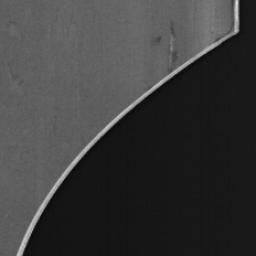Crescent gap: (24, 33, 239, 256)
